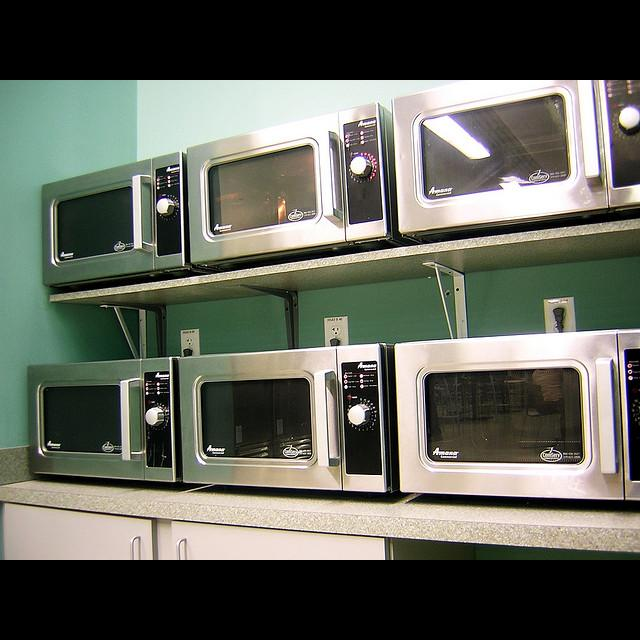Microwave: (393, 326, 640, 506), (184, 101, 408, 278), (393, 80, 640, 237), (181, 342, 397, 494), (41, 151, 190, 292), (26, 356, 183, 483)
